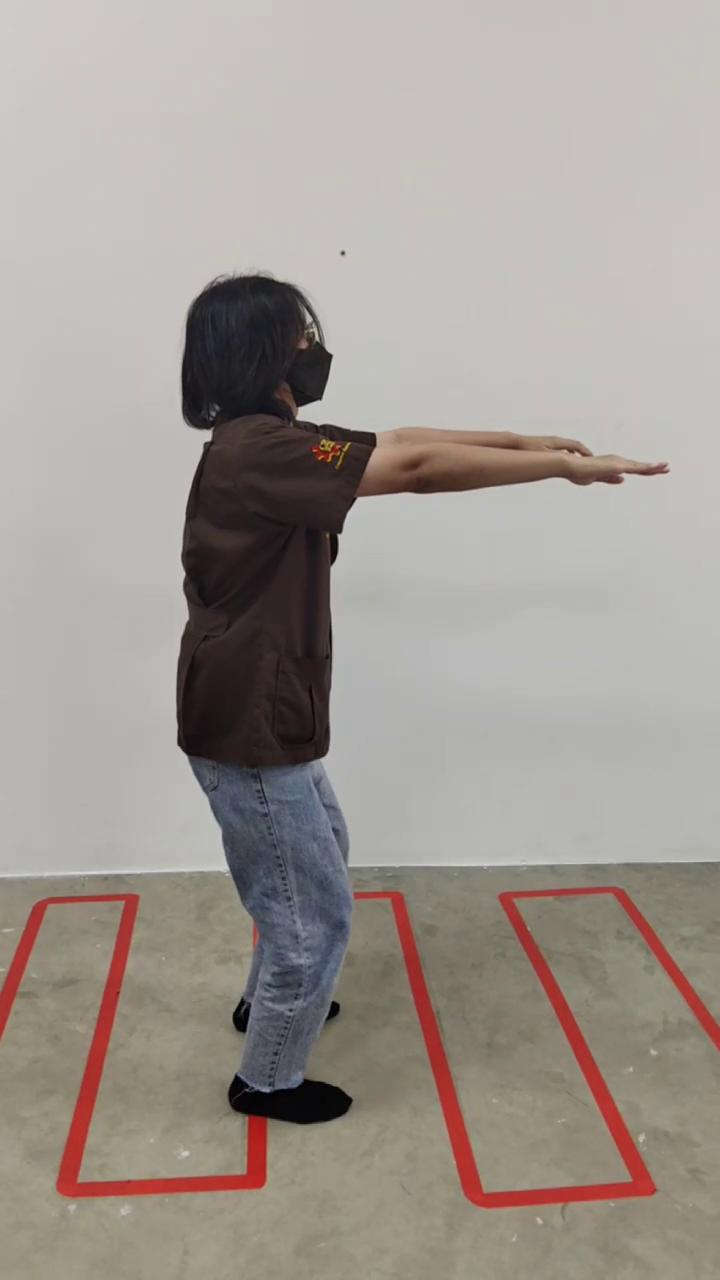squat up: (178, 272, 668, 1125)
